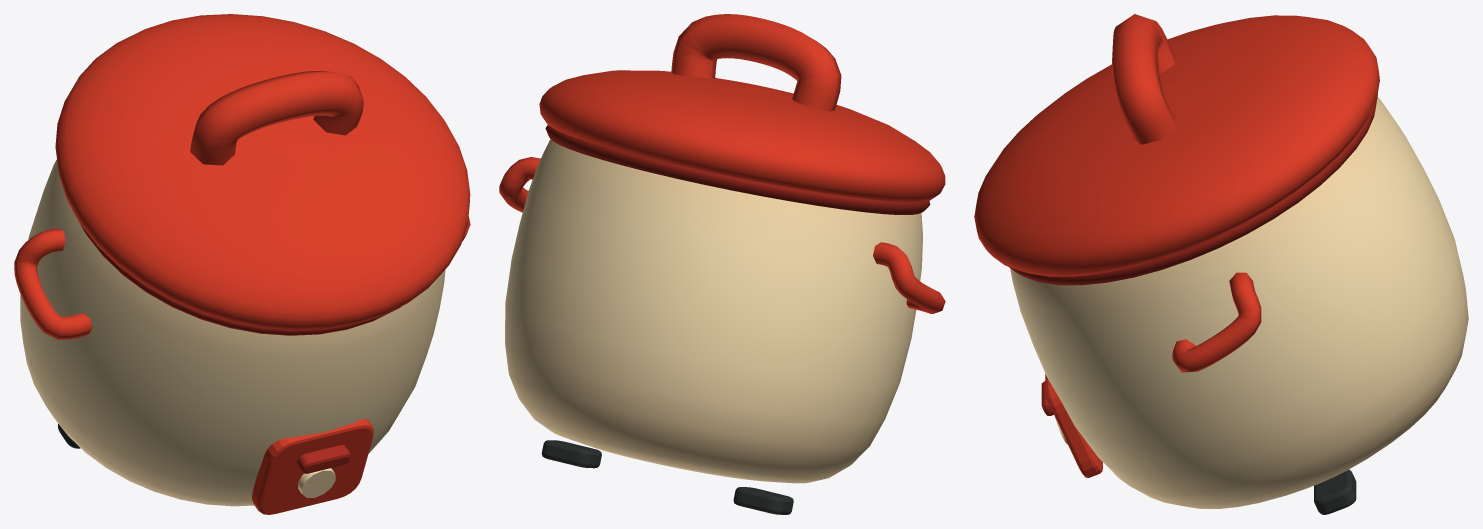
File: rice-cooker.glb
3 renders of one model, left to right at view 1: azimuth 30°, elevation 25°; view 2: azimuth 150°, elevation 25°; view 3: azimuth 270°, elevation 25°, orthographic. The views are drawn at different scales.
Visible parts, largest first — view 1: rice-cooker; view 2: rice-cooker; view 3: rice-cooker.
Part boxes in pixels (bbox=[...]): rice-cooker: bbox=[14, 14, 470, 514]; rice-cooker: bbox=[499, 14, 945, 514]; rice-cooker: bbox=[974, 14, 1468, 514].
Size of the model in its own units: 0.9689 by 0.9234 by 0.9298.
